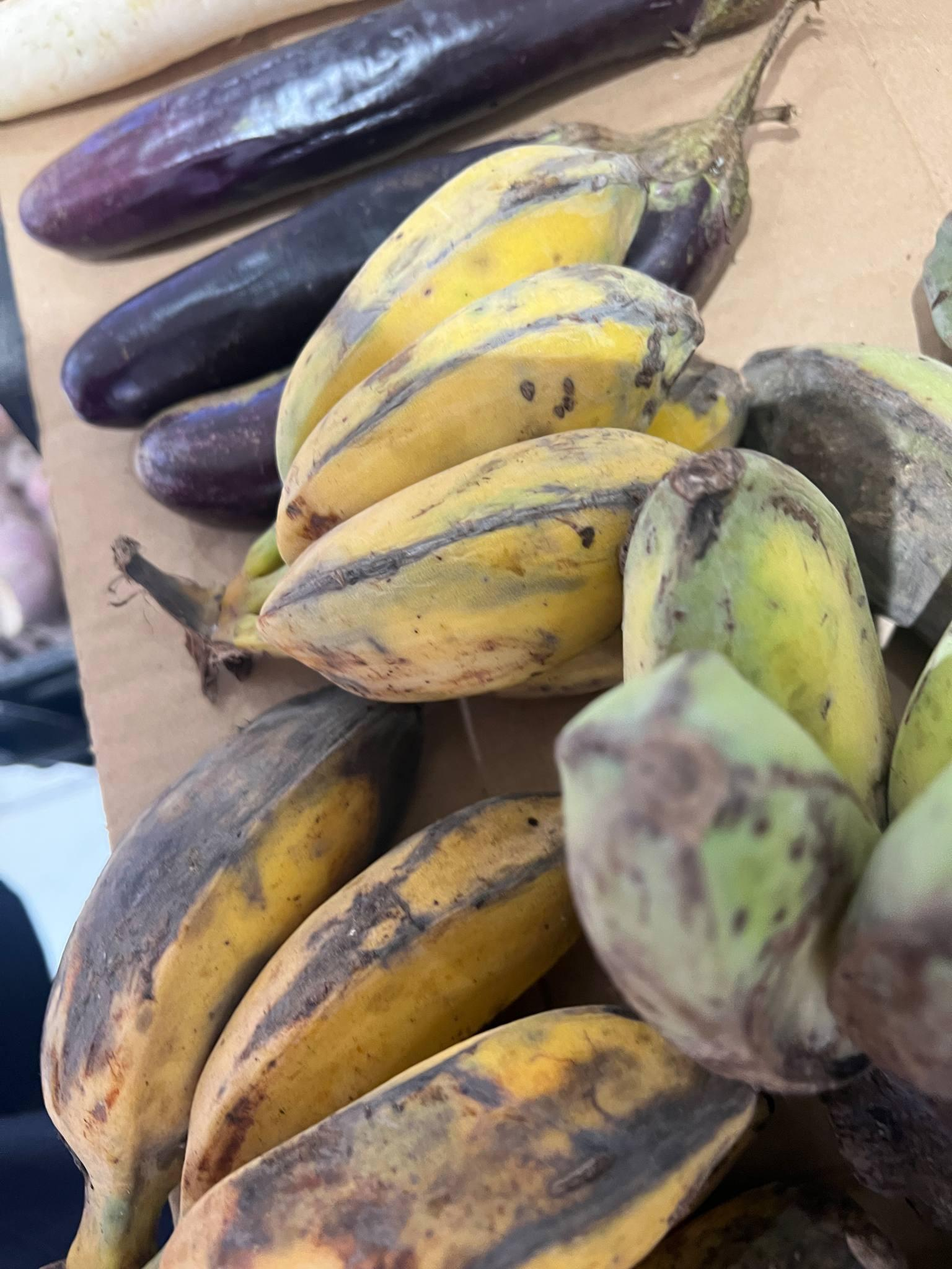ripe: (42, 687, 757, 1268), (257, 143, 745, 703)
underripe: (556, 347, 951, 1112)
